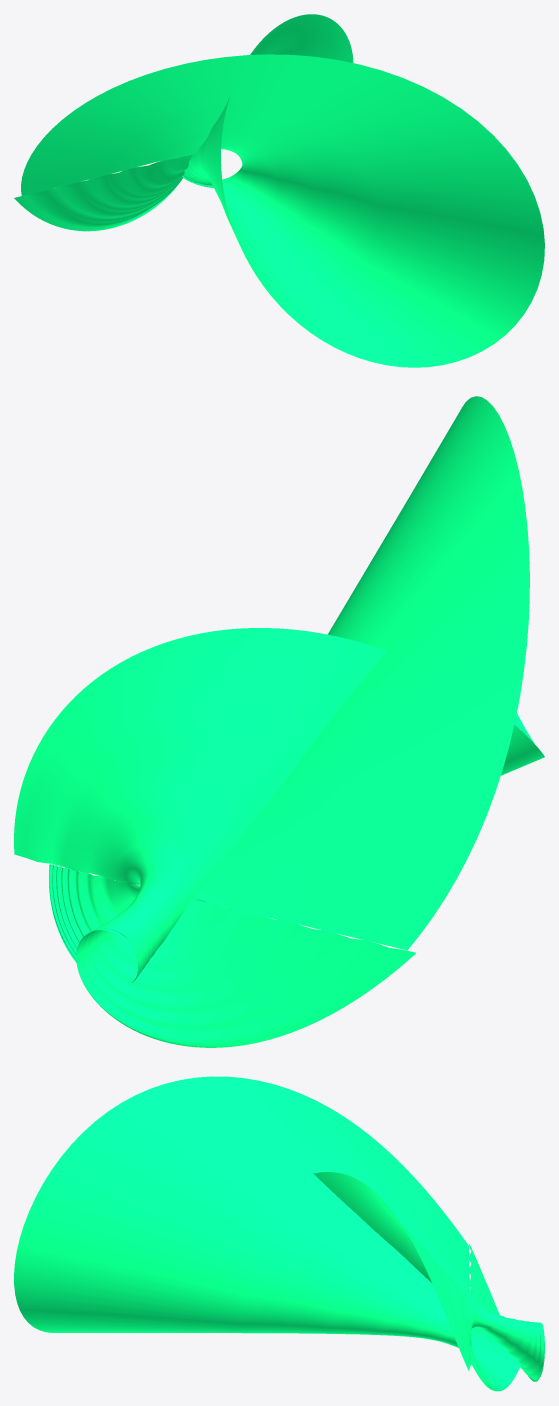
File: mobius_strip_4d_ar_universal.glb
3 views of the same model, one above another, from view 1: azimuth 30°, elevation 25°; view 2: azimuth 150°, elevation 25°; view 3: azimuth 270°, elevation 25° (orthographic). The views are drawn at different scales.
Visible parts, largest first — view 1: mobius_strip_4d_ar; view 2: mobius_strip_4d_ar; view 3: mobius_strip_4d_ar.
Part boxes in pixels (x1,y1,x2,y2): mobius_strip_4d_ar: (14,14,544,367); mobius_strip_4d_ar: (14,396,544,1047); mobius_strip_4d_ar: (14,1076,544,1391).
Bounding box in the file's own units: 0.6108 × 0.5699 × 1.
